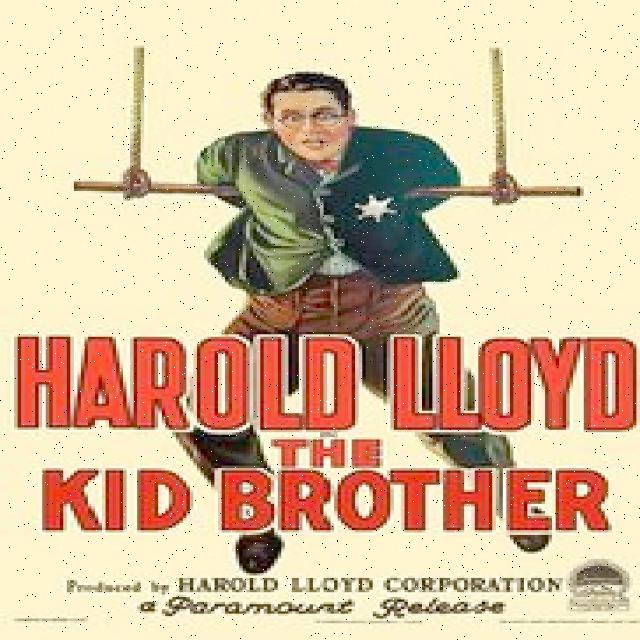movie-judul: (10, 324, 640, 541)
picture: (2, 20, 636, 623)
